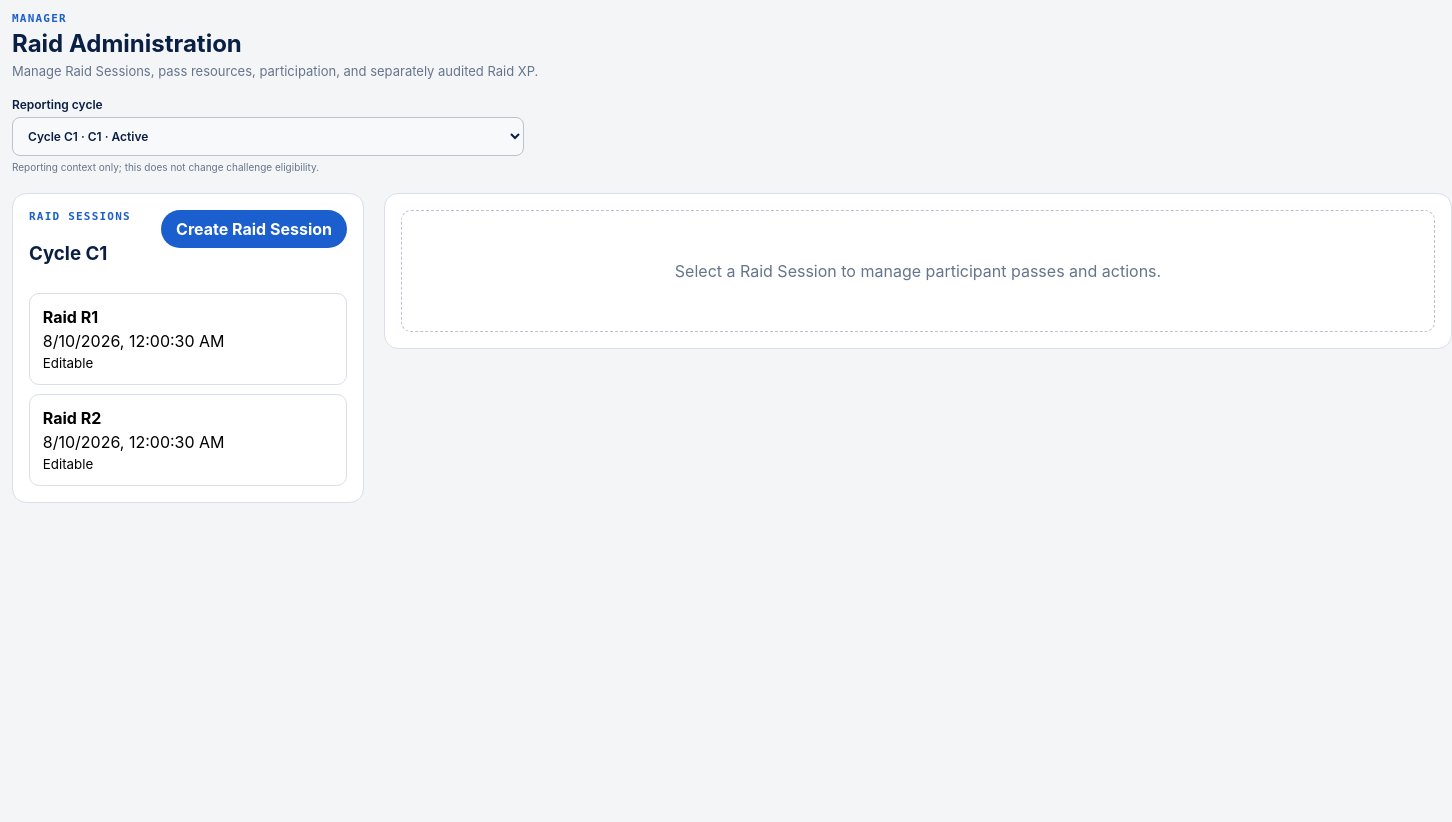
Raid Administration › suppresses stale participant detail when a newer session is selected
The width and height of the screenshot is (1452, 822).
Click the button "Raid R1 8/10/2026, 12:00:30 AM Editable" at (188, 339), box [29,293,347,385]
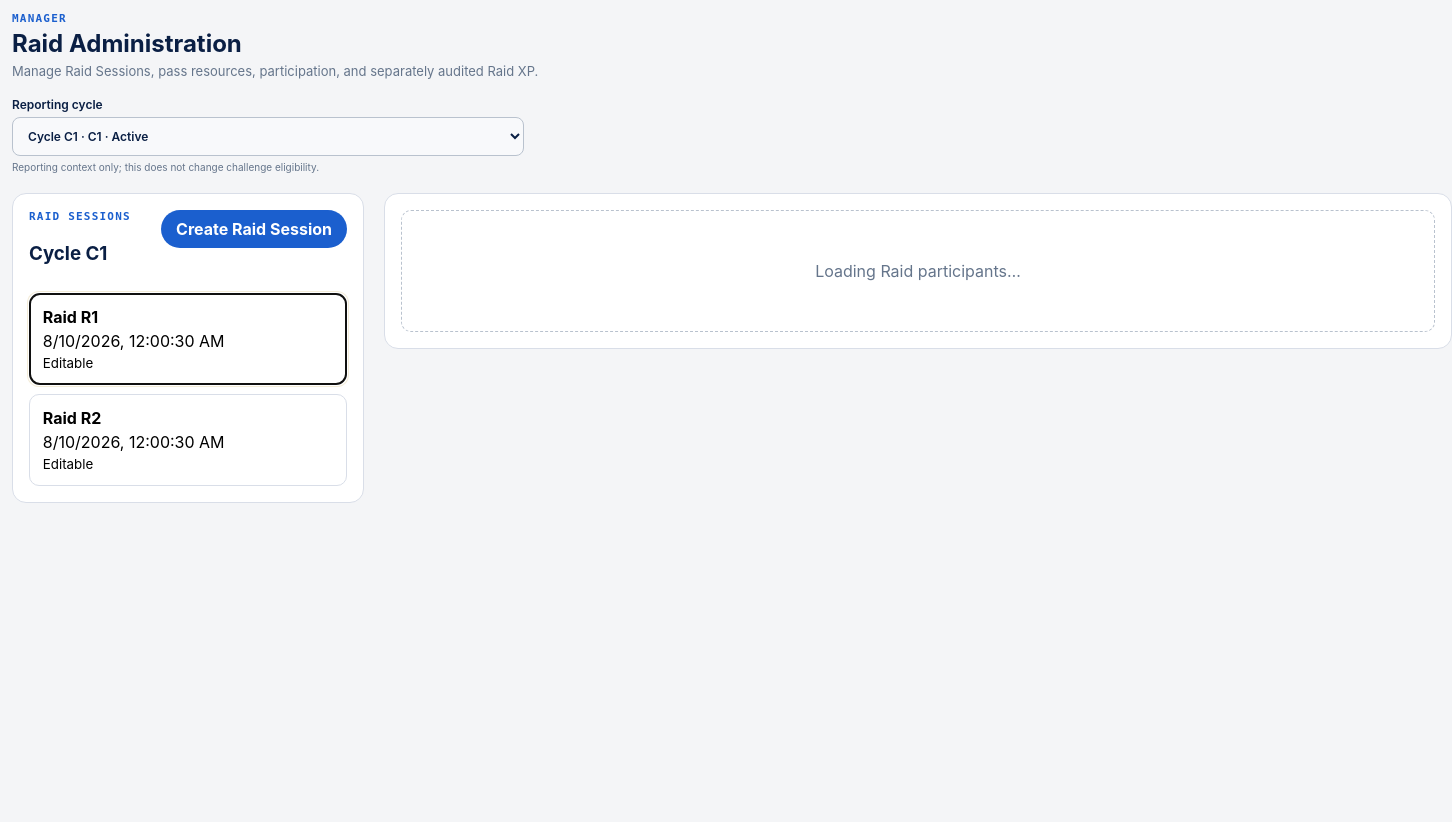
Click the button "Raid R2 8/10/2026, 12:00:30 AM Editable" at (188, 440), box [29,394,347,486]
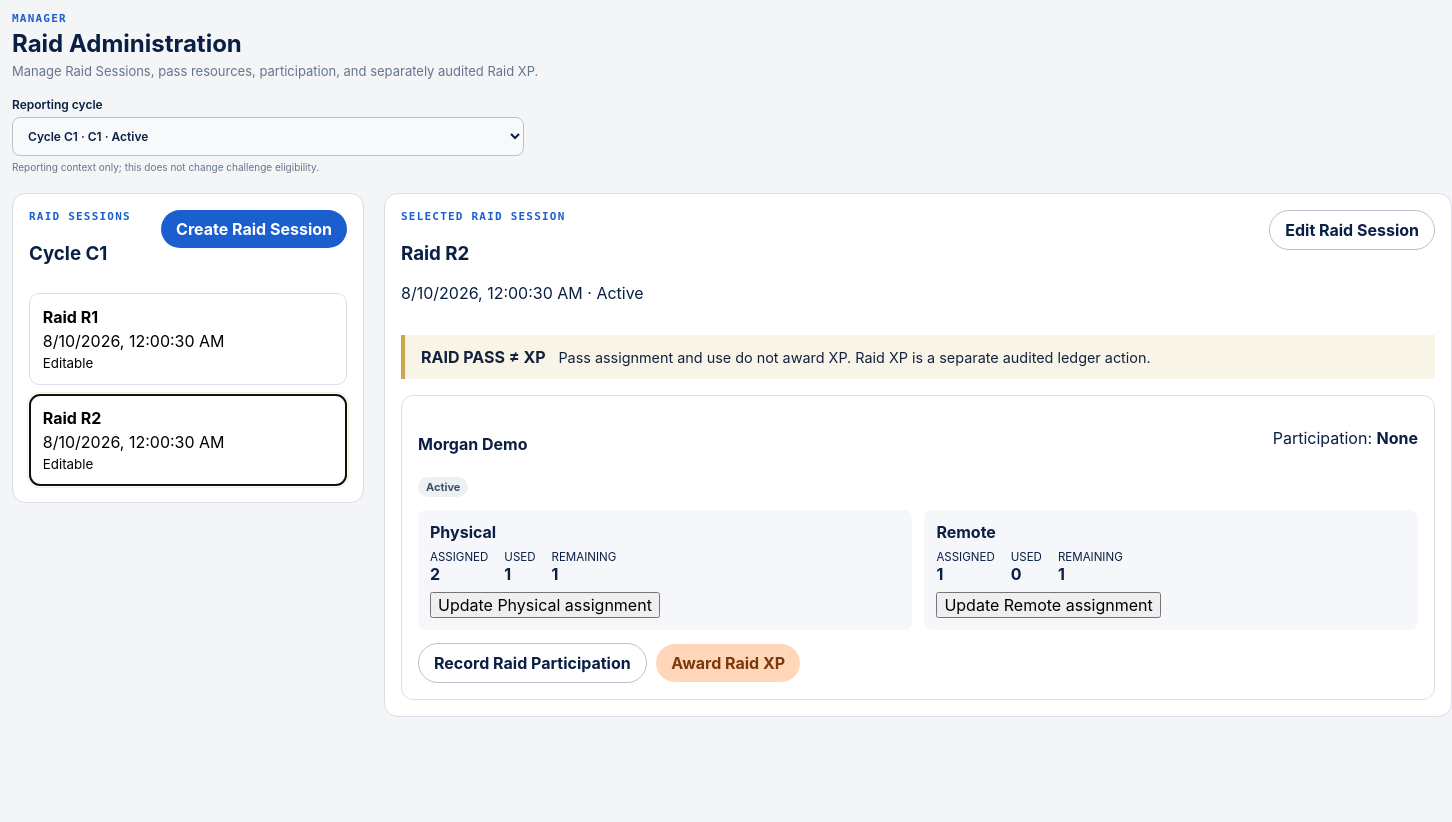
Check: the heading "Morgan Demo" is shown, box [418,434,528,454]
